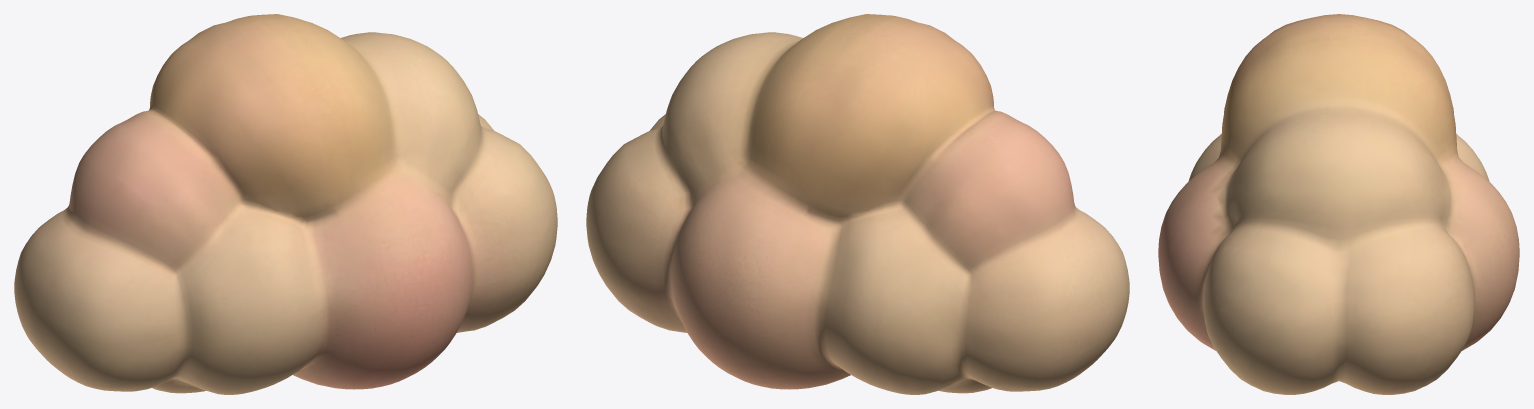
File: cloud.glb
3 views of the same model, side by side, from view 1: azimuth 30°, elevation 25°; view 2: azimuth 150°, elevation 25°; view 3: azimuth 270°, elevation 25° (orthographic). The views are drawn at different scales.
Visible parts, largest first — view 1: tripo_28f1aa39_56c4_49b0_a579_a733d2ef503f; view 2: tripo_28f1aa39_56c4_49b0_a579_a733d2ef503f; view 3: tripo_28f1aa39_56c4_49b0_a579_a733d2ef503f.
Part boxes in pixels (left/top/right/bottom): tripo_28f1aa39_56c4_49b0_a579_a733d2ef503f: left=14, top=14, right=557, bottom=394; tripo_28f1aa39_56c4_49b0_a579_a733d2ef503f: left=586, top=14, right=1129, bottom=394; tripo_28f1aa39_56c4_49b0_a579_a733d2ef503f: left=1158, top=14, right=1519, bottom=394.
Size of the model in its own units: 0.9995 by 0.6577 by 0.6919.
1 material, 1 textured.
